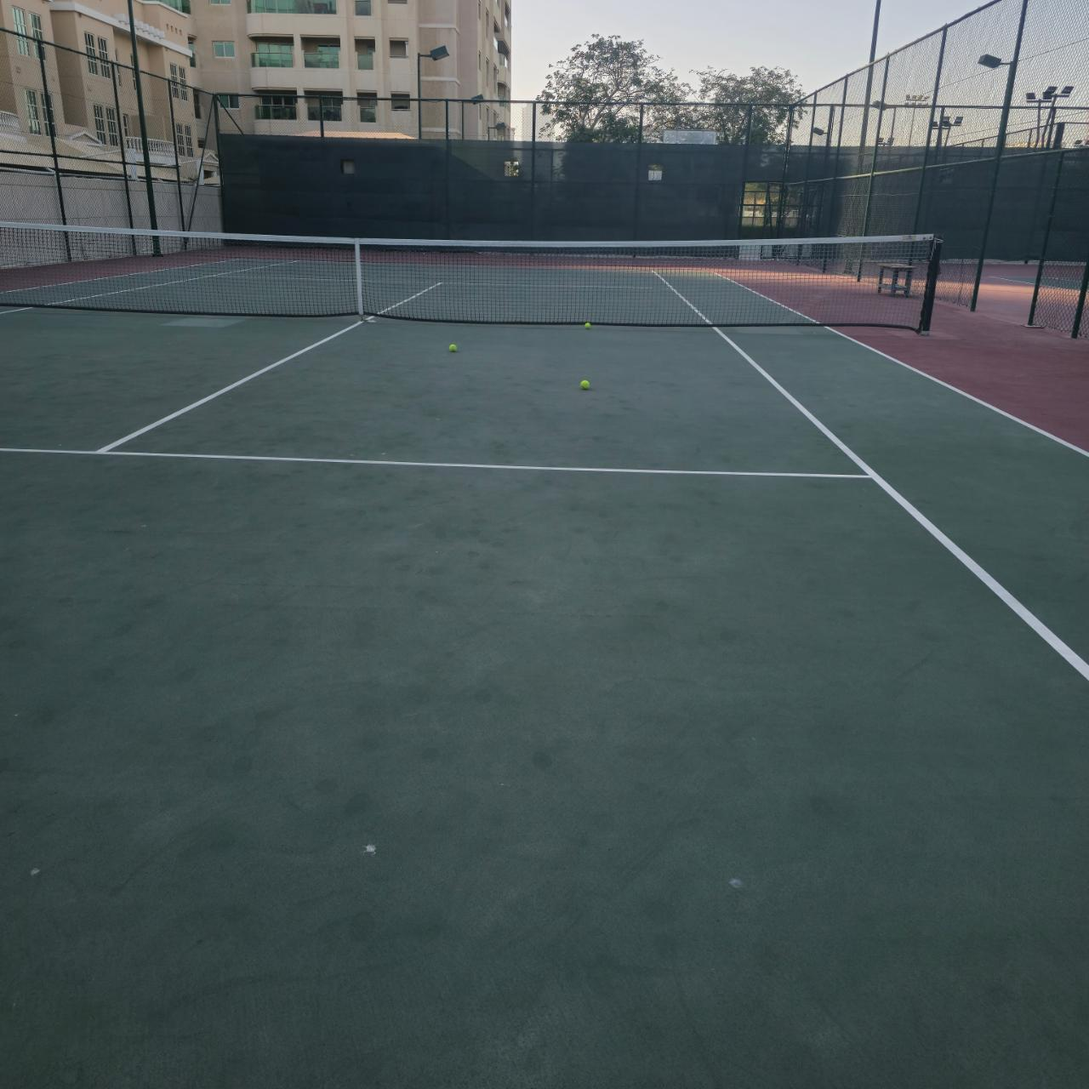tennis-ball: (446, 341, 459, 353), (578, 377, 590, 390), (585, 323, 591, 329)
